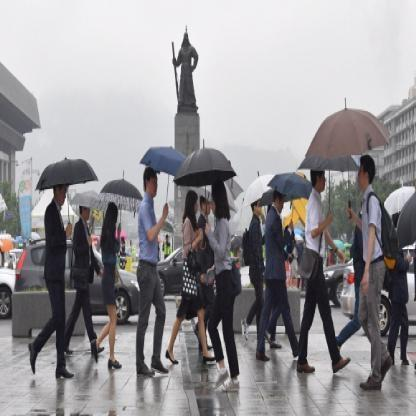Umbrella: (296, 82, 390, 178), (31, 150, 106, 206), (0, 61, 41, 149), (168, 146, 240, 188), (248, 171, 312, 216), (138, 139, 188, 180), (380, 173, 415, 219), (94, 180, 142, 210)
